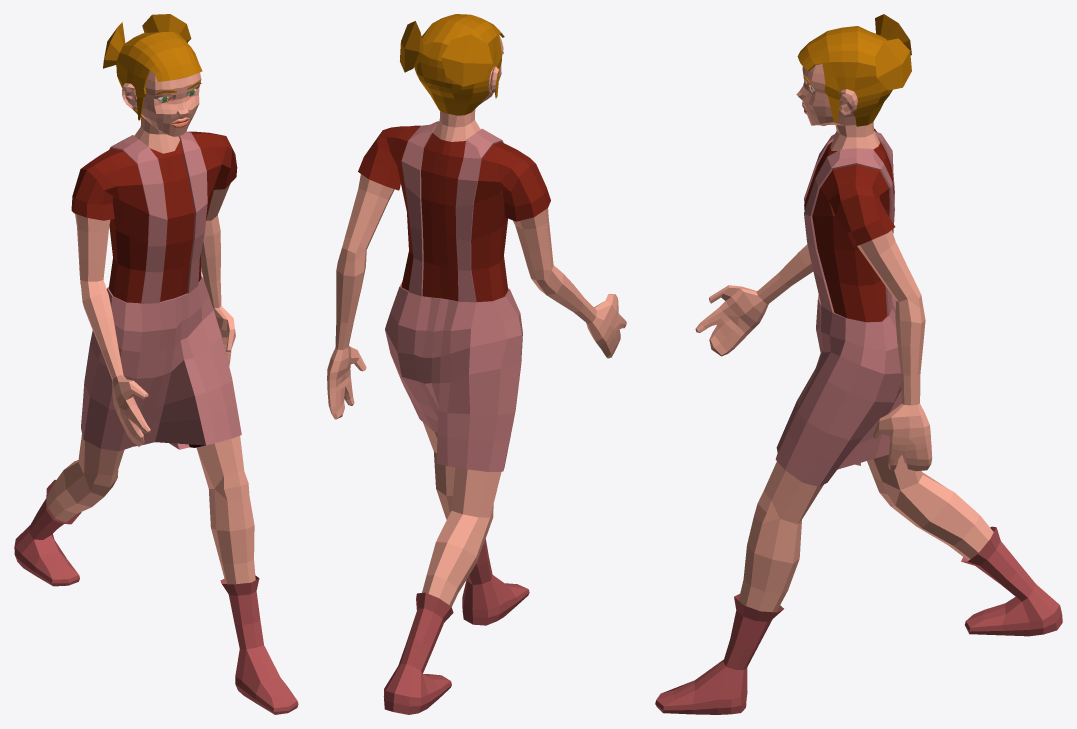
The model's file is Child_B_Walk.fbx.
3 views of the same model, side by side, from view 1: azimuth 30°, elevation 25°; view 2: azimuth 150°, elevation 25°; view 3: azimuth 270°, elevation 25° (orthographic). The views are drawn at different scales.
Parts seen in each view (by area): view 1: Child_B_Walk; view 2: Child_B_Walk; view 3: Child_B_Walk.
Part boxes in pixels (bbox=[...]): Child_B_Walk: bbox=[14, 14, 298, 714]; Child_B_Walk: bbox=[327, 14, 626, 714]; Child_B_Walk: bbox=[655, 14, 1062, 714].
Bounding box in the file's own units: 0.1752 × 0.5584 × 0.3121.
